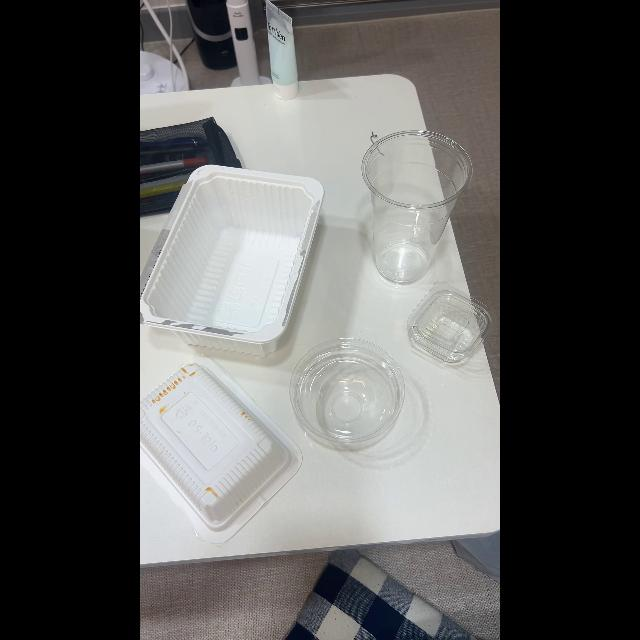clean: (170, 172, 300, 348), (360, 138, 458, 282), (293, 351, 405, 442), (414, 292, 486, 372)
dirty: (141, 358, 287, 524)
